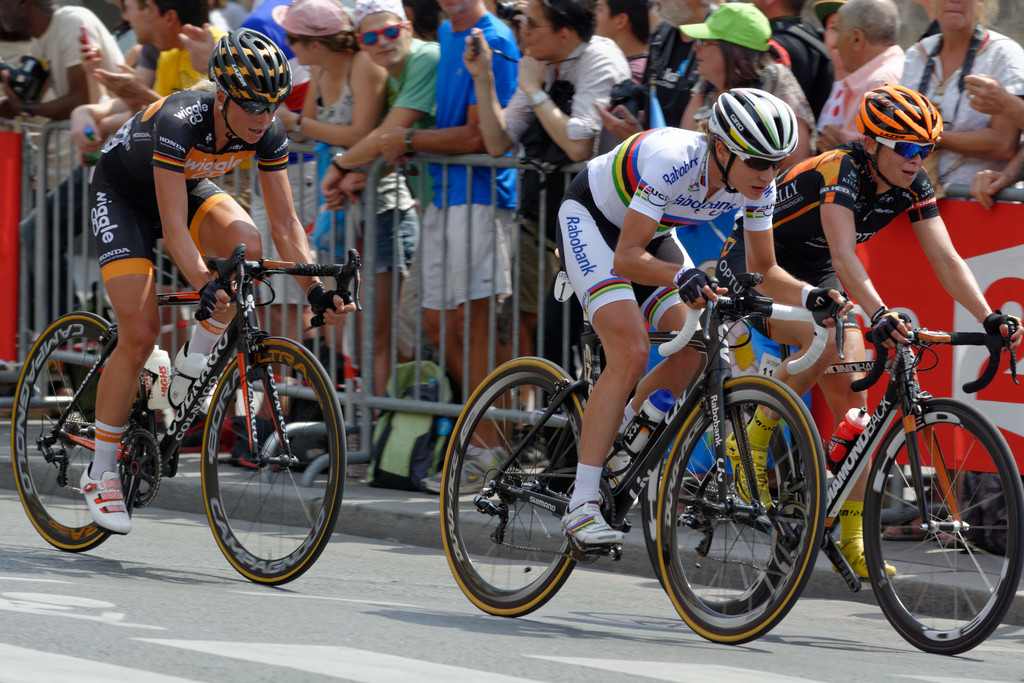Bike_toward: (20, 255, 334, 577)
